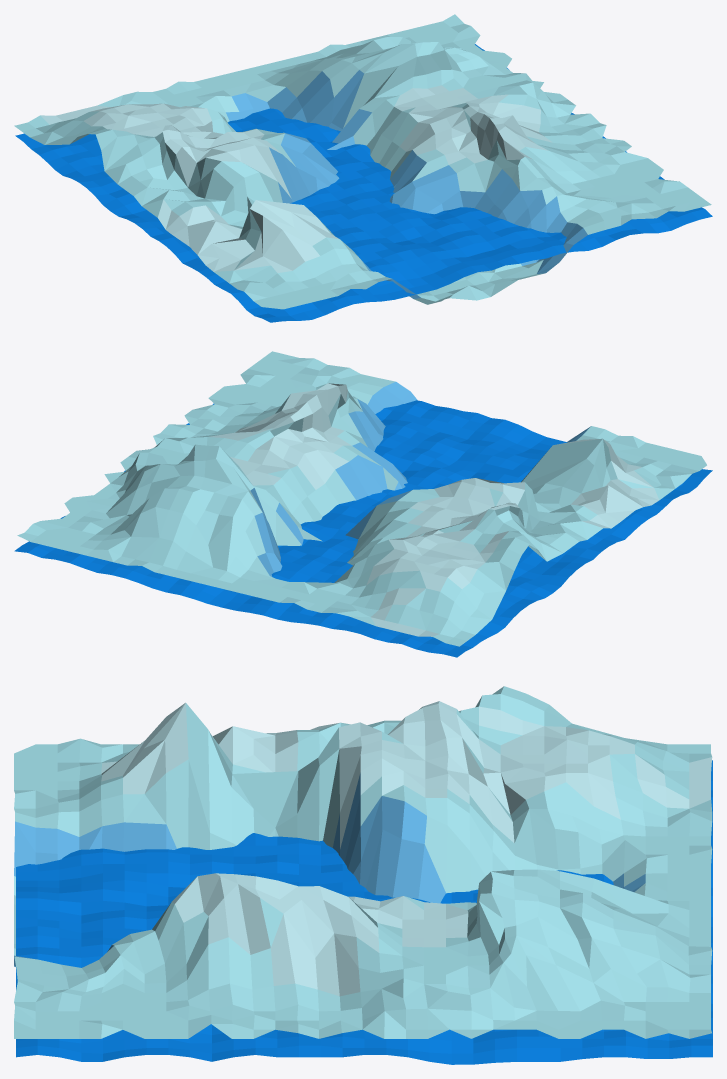
The model's file is iceground.glb.
The picture shows the model from 3 angles, top to bottom: view 1: azimuth 30°, elevation 25°; view 2: azimuth 150°, elevation 25°; view 3: azimuth 270°, elevation 25°; orthographic projection. The views are drawn at different scales.
Parts seen in each view (by area): view 1: Land, Water; view 2: Land, Water; view 3: Land, Water.
Boxes of the visible parts, x1,y1,x2,y2 form: Land: (14, 14, 711, 309); Water: (15, 44, 712, 322); Land: (17, 351, 706, 646); Water: (14, 400, 712, 657); Land: (14, 686, 712, 1038); Water: (16, 760, 712, 1064).
Bounding box in the file's own units: 4.97 × 1.43 × 4.95.
